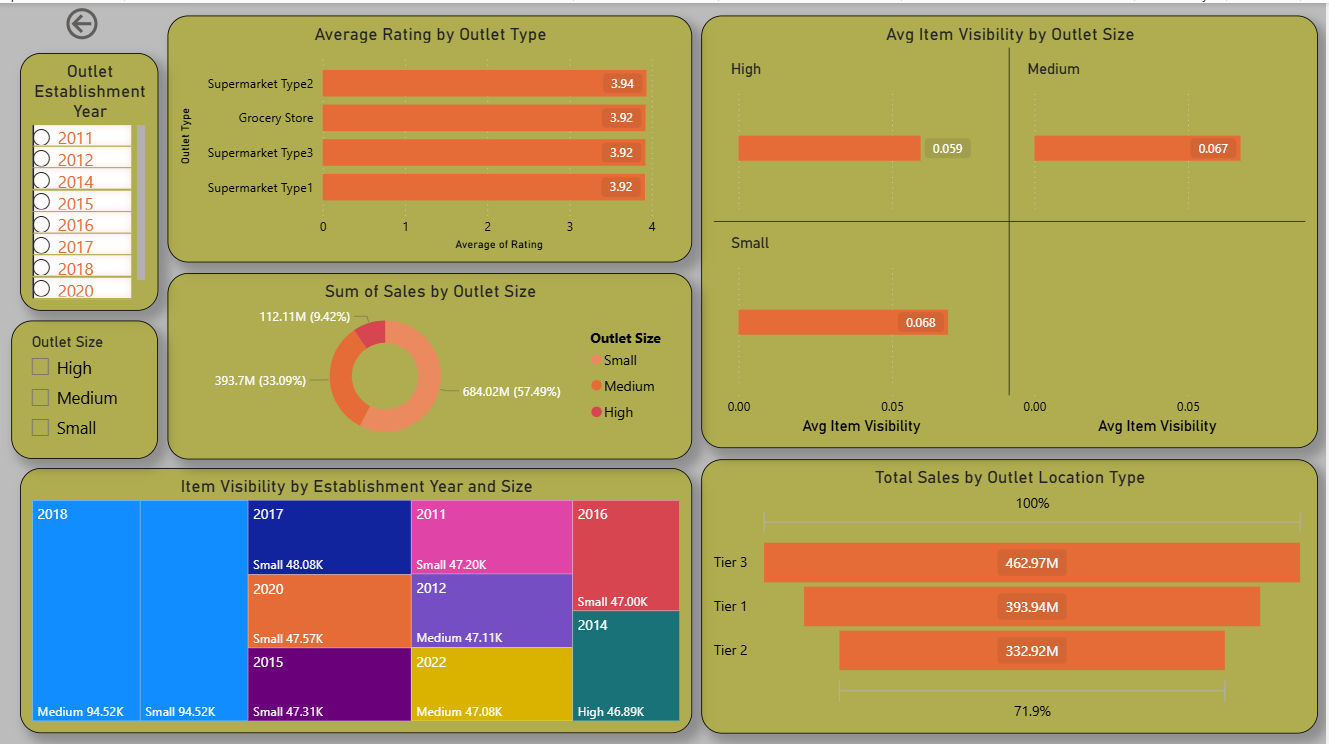

The page's visual inventory and layout, read from the dashboard file:
{"tool":"powerbi","page":{"name":"Page 2","canvas":[1280,720],"ordinal":1},"visuals":[{"type":"treemap","title":"Item Visibility by Establishment Year and Size","fields":{"Group":["Dim_Outlet.Outlet Establishment Year"],"Details":["Dim_Outlet.Outlet Size"],"Values":["Sum(Fact.Item Visibility)"]},"box":[18.8,448.8,648.8,256.2],"z":0},{"type":"funnel","fields":{"Category":["Dim_Outlet.Outlet Location Type"],"Y":["Fact.Total Sales"]},"box":[676.2,440,595,265],"z":1000},{"type":"listSlicer","fields":{"Values":["Dim_Outlet.Outlet Establishment Year"]},"box":[18.8,48.8,133.8,248.8],"z":2000},{"type":"clusteredBarChart","title":"Average Rating by Outlet Type","fields":{"Category":["Dim_Outlet.Outlet Type"],"Y":["Avg(Fact.Rating)"]},"box":[161.2,12.5,506.2,238.8],"z":3000},{"type":"clusteredBarChart","fields":{"Rows":["Dim_Outlet.Outlet Size"],"Y":["Fact.Avg Item Visibility"]},"box":[676.2,12.5,595,417.5],"z":4000},{"type":"donutChart","fields":{"Category":["Dim_Outlet.Outlet Size"],"Y":["Sum(Fact.Sales)"]},"box":[161.2,260,506.2,180],"z":5000},{"type":"slicer","fields":{"Values":["Dim_Outlet.Outlet Size"]},"box":[11.2,306.2,141.2,133.8],"z":6000},{"type":"actionButton","box":[58.8,0,56.2,40],"z":7000}]}

Visuals, with their boxes in screenshot pixels (x1, y1, x2, y2), scaled from the page's 1280x720 canvas onto the 1329x744 screenshot:
"Item Visibility by Establishment Year and Size" treemap: (20,464,693,729)
funnel - Dim_Outlet.Outlet Location Type x Fact.Total Sales: (702,455,1320,729)
listSlicer - Dim_Outlet.Outlet Establishment Year: (20,50,158,308)
"Average Rating by Outlet Type" clusteredBarChart: (167,13,693,260)
clusteredBarChart - Dim_Outlet.Outlet Size x Fact.Avg Item Visibility: (702,13,1320,444)
donutChart - Dim_Outlet.Outlet Size x Sum(Fact.Sales): (167,269,693,455)
slicer - Dim_Outlet.Outlet Size: (12,316,158,455)
actionButton: (61,0,119,41)
